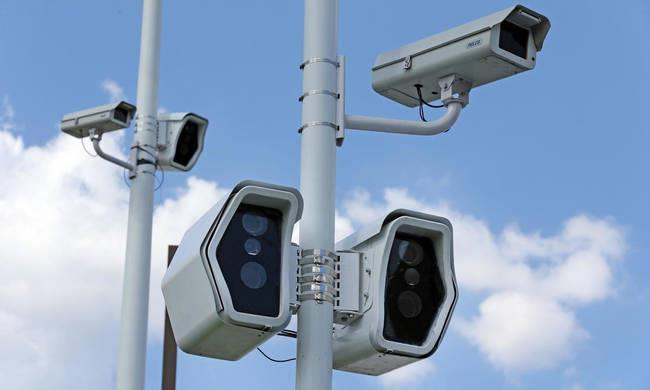Speed-Camera: (164, 3, 564, 380), (51, 84, 213, 180)
